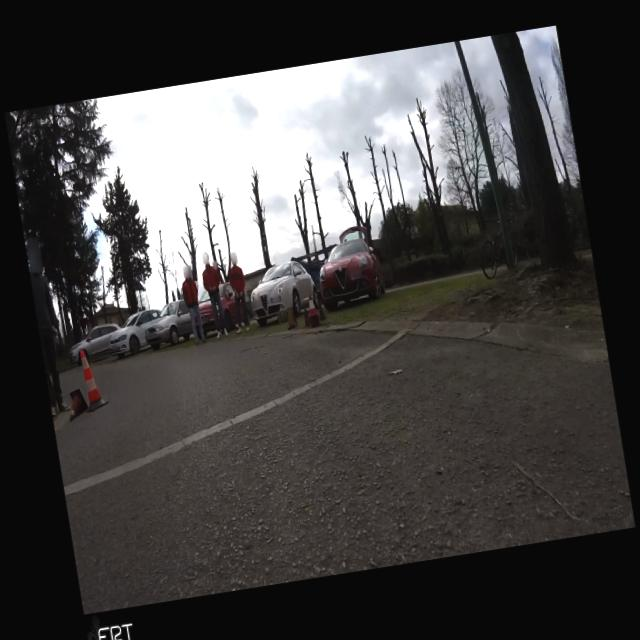large_orange_cone: (77, 346, 110, 412)
orange_cone: (306, 293, 320, 317)
unknown_cone: (66, 388, 90, 422), (284, 306, 298, 328), (318, 302, 327, 320)
